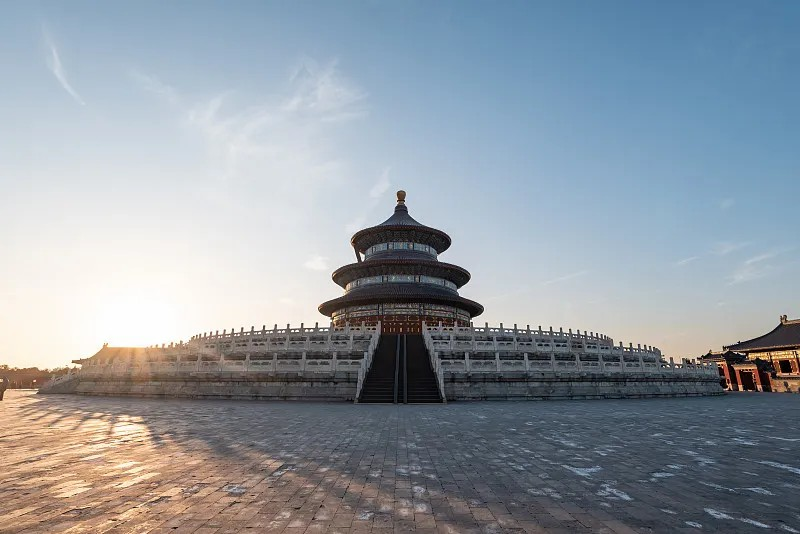Heaven: (318, 189, 485, 335)
